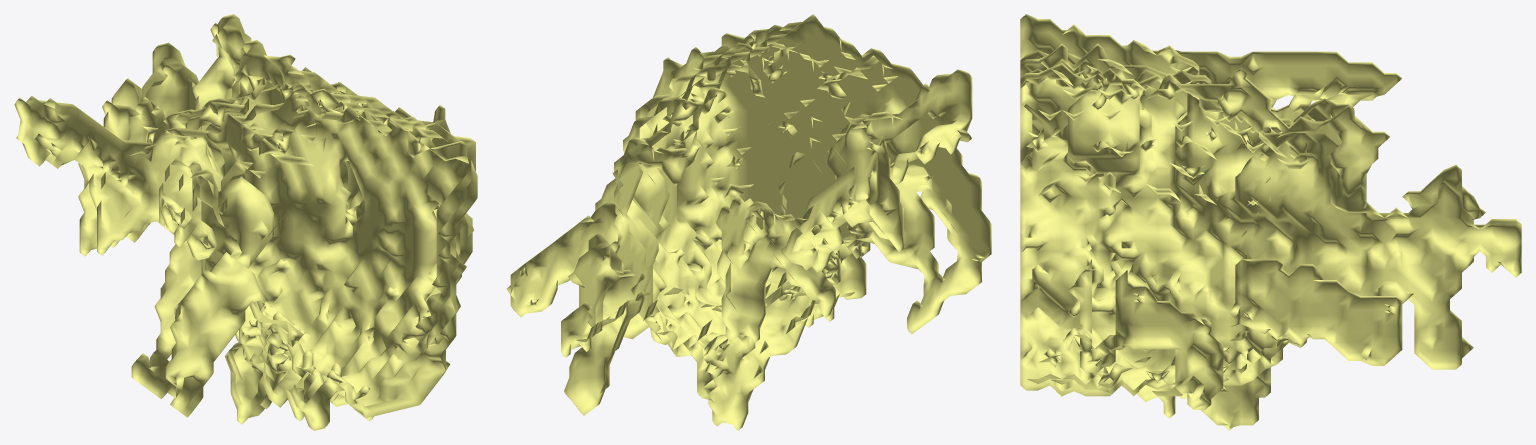
Rendered from osteocyte_96.glb.
The picture shows the model from 3 angles, left to right: view 1: azimuth 30°, elevation 25°; view 2: azimuth 150°, elevation 25°; view 3: azimuth 270°, elevation 25°; orthographic projection. The views are drawn at different scales.
Parts seen in each view (by area): view 1: osteocyte_96; view 2: osteocyte_96; view 3: osteocyte_96.
Boxes of the visible parts, <box> form: osteocyte_96: <box>14,14,477,430</box>; osteocyte_96: <box>506,14,991,430</box>; osteocyte_96: <box>1020,14,1521,430</box>.
Size of the model in its own units: 15.89 by 16.37 by 20.22.
